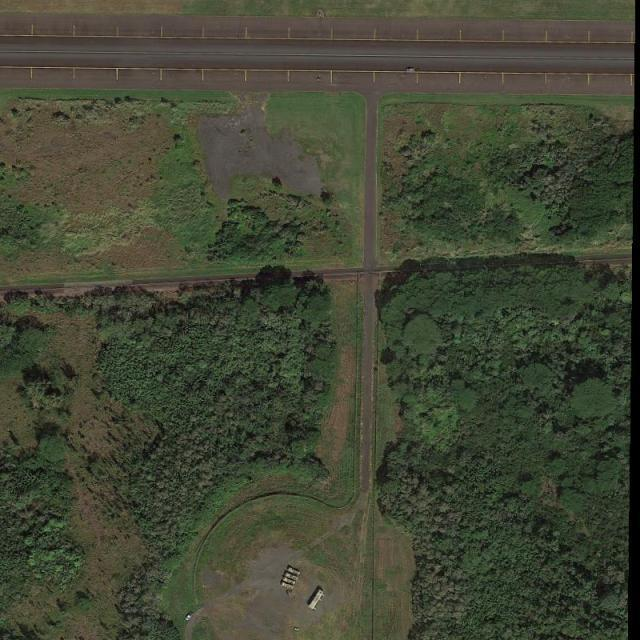vehicle: (407, 67, 420, 71)
